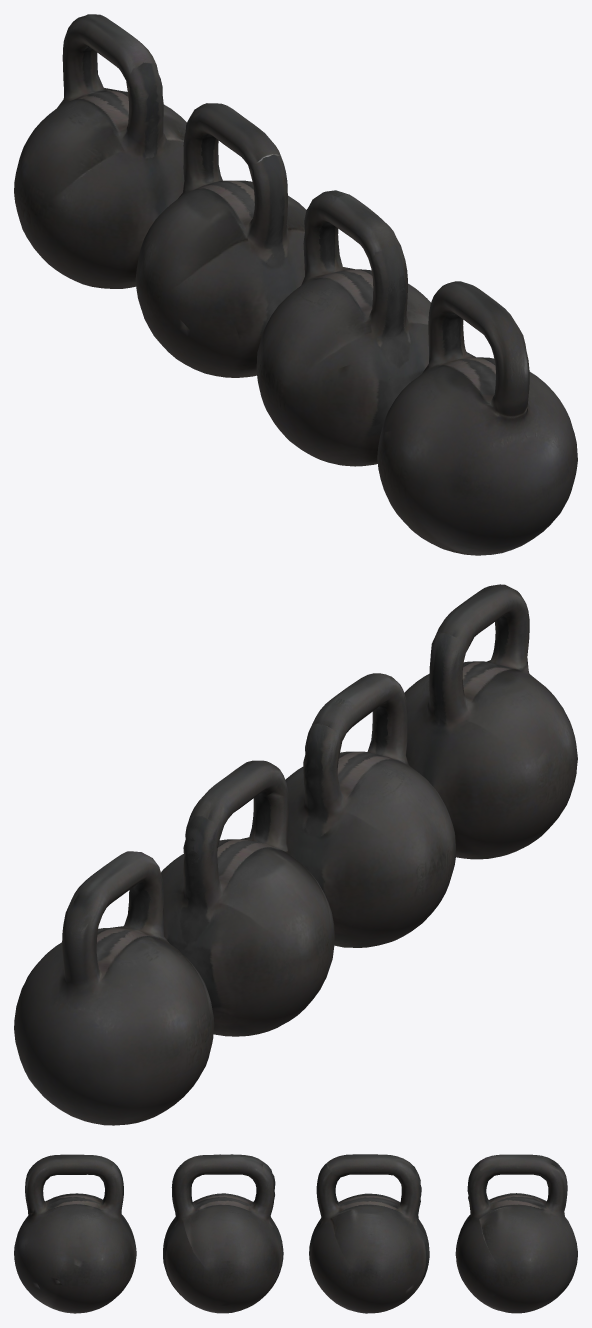
Rendered from 2513ed42-565a-4566-af7e-0edc7a5efaf8.glb.
3 renders of one model, top to bottom at view 1: azimuth 30°, elevation 25°; view 2: azimuth 150°, elevation 25°; view 3: azimuth 270°, elevation 25°, orthographic. The views are drawn at different scales.
Size of the model in its own units: 0.4292 by 0.597 by 2.
1 material, 1 textured.
